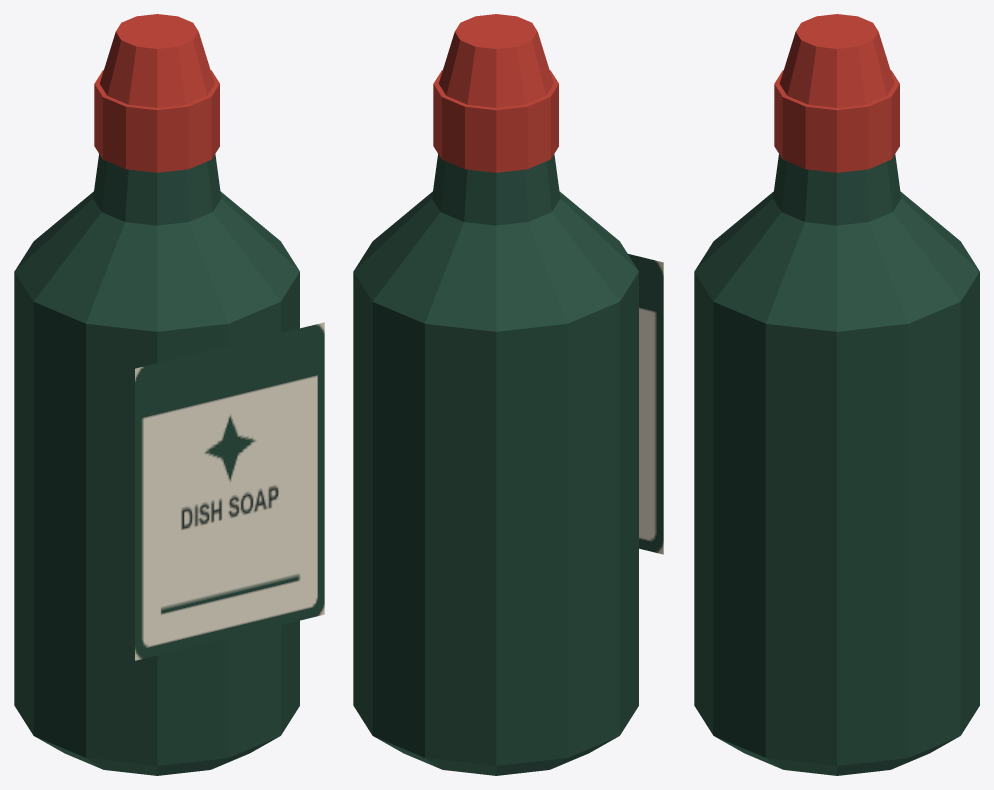
Rendered from dish_soap.fbx.
The picture shows the model from 3 angles, left to right: view 1: azimuth 30°, elevation 25°; view 2: azimuth 150°, elevation 25°; view 3: azimuth 270°, elevation 25°; orthographic projection.
Parts seen in each view (by area): view 1: dish_soap; view 2: dish_soap; view 3: dish_soap.
Part boxes in pixels (x1,y1,x2,y2): dish_soap: (14, 14, 324, 775); dish_soap: (353, 14, 663, 775); dish_soap: (694, 14, 979, 775).
Bounding box in the file's own units: 12.4 × 33.5 × 12.5.
